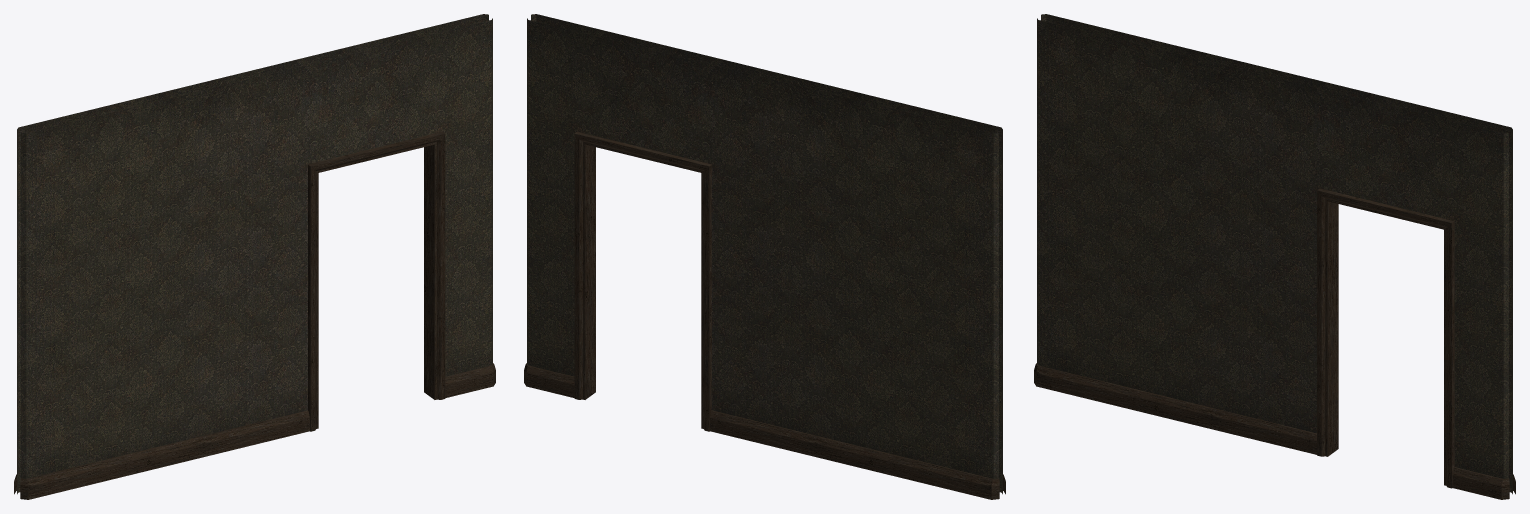
The model's file is side_doorway_2.glb.
The picture shows the model from 3 angles, left to right: view 1: azimuth 30°, elevation 25°; view 2: azimuth 150°, elevation 25°; view 3: azimuth 330°, elevation 25°; orthographic projection.
Visible parts, largest first — view 1: side_doorway_2; view 2: side_doorway_2; view 3: side_doorway_2.
Boxes of the visible parts, <box> form: side_doorway_2: <box>14,14,495,499</box>; side_doorway_2: <box>524,14,1005,499</box>; side_doorway_2: <box>1034,14,1515,499</box>.
Bounding box in the file's own units: 4.09 × 3 × 0.2.
Materials: 2 (2 with a texture image).
